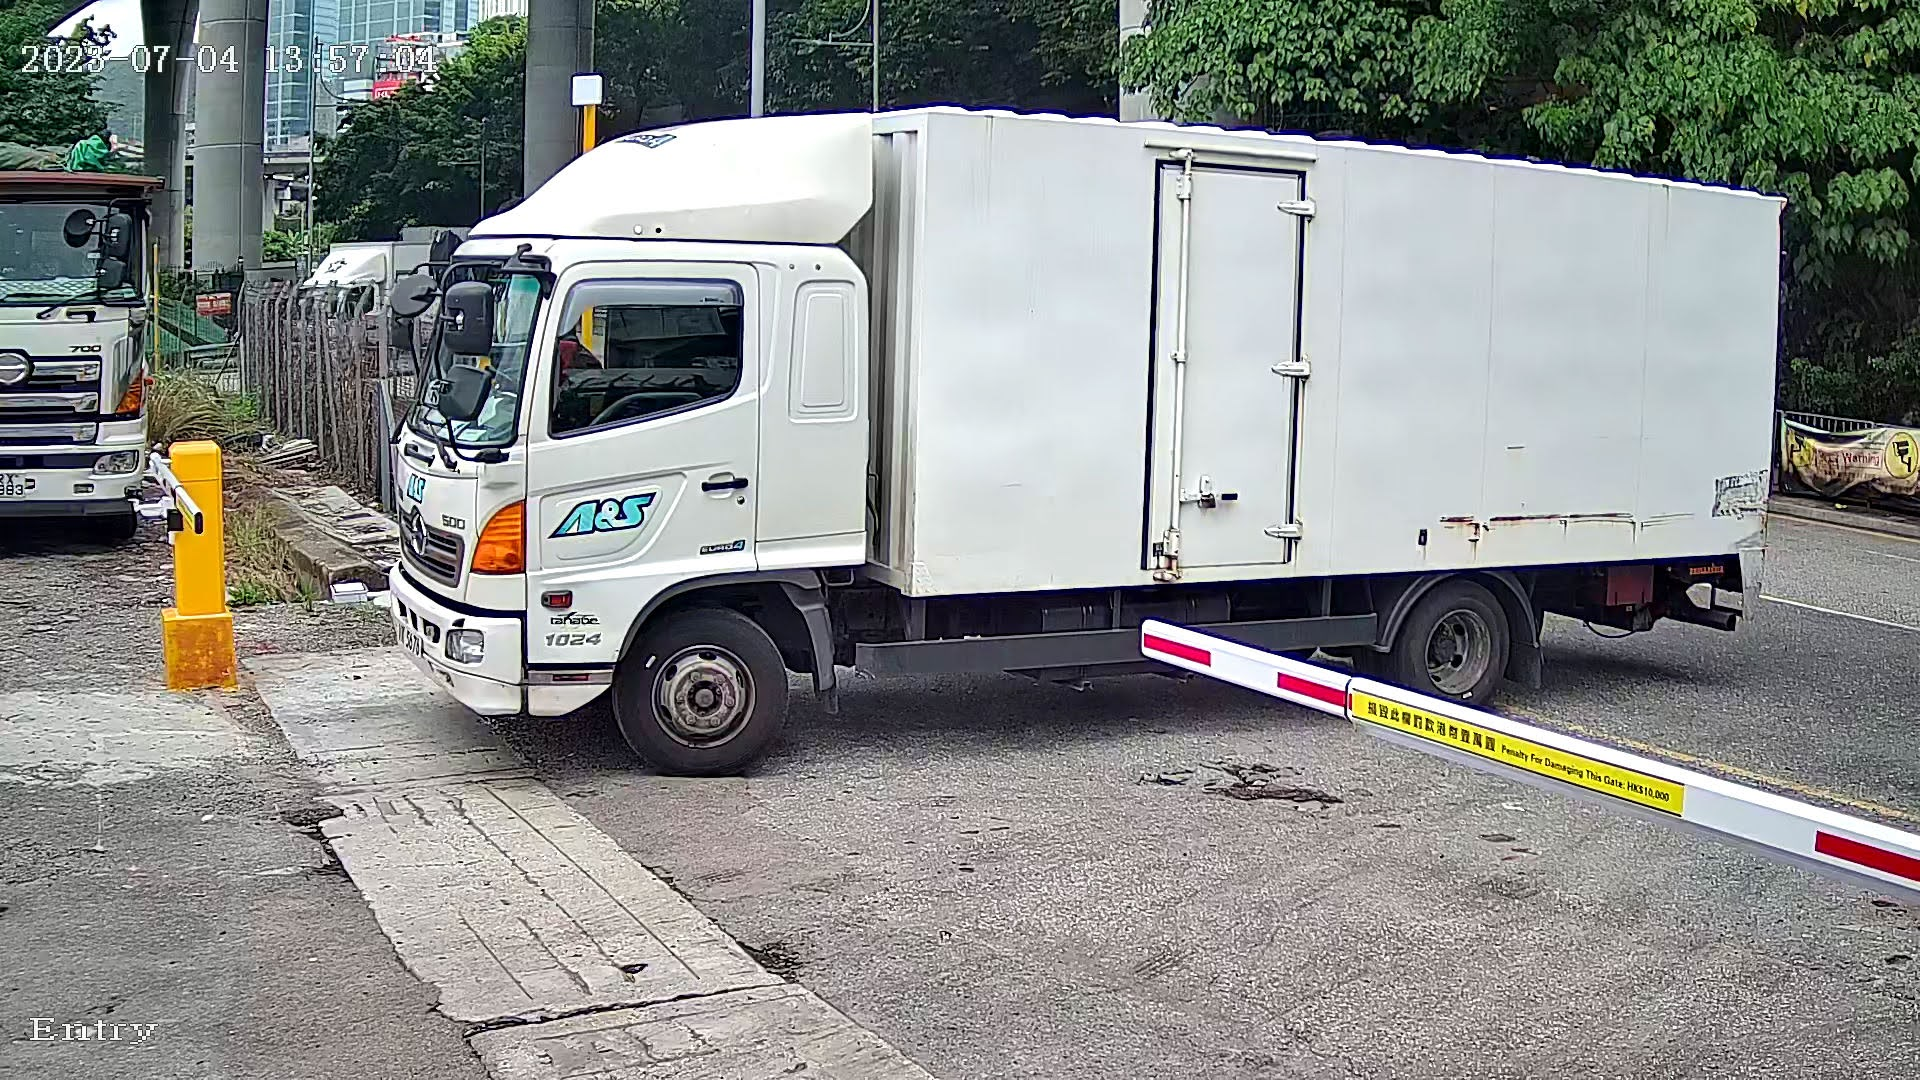truck_small: (367, 99, 1809, 771)
